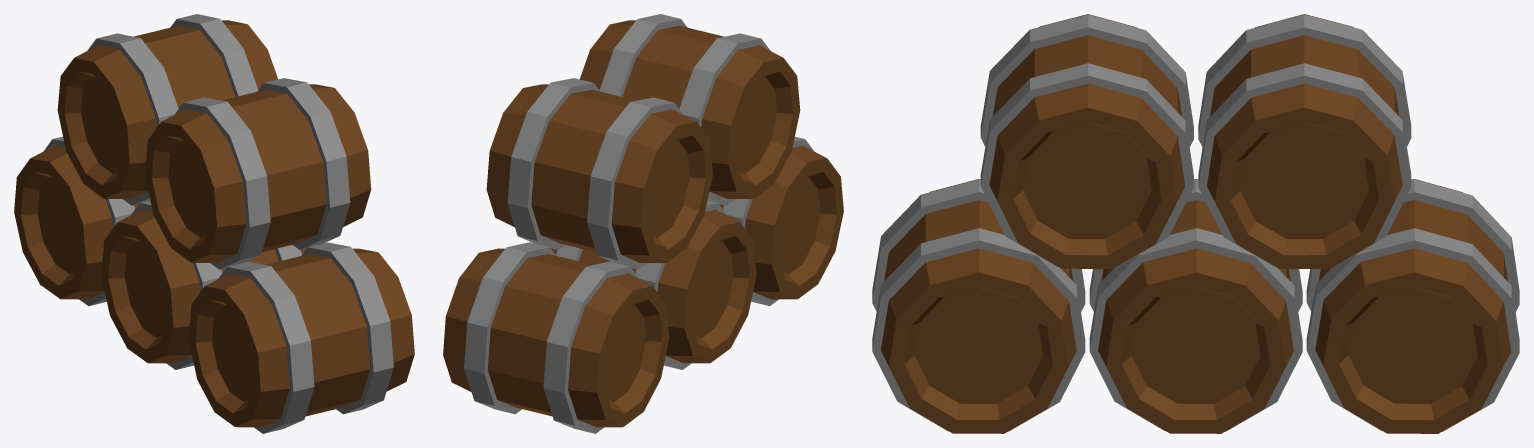
File: FassStapel.fbx
3 renders of one model, left to right at view 1: azimuth 30°, elevation 25°; view 2: azimuth 150°, elevation 25°; view 3: azimuth 270°, elevation 25°, orthographic. The views are drawn at different scales.
Parts seen in each view (by area): view 1: Cylinder.006; view 2: Cylinder.006; view 3: Cylinder.006.
Boxes of the visible parts, box(x1,y1,x2,y2) form: Cylinder.006: box(14, 14, 414, 433); Cylinder.006: box(443, 14, 843, 433); Cylinder.006: box(872, 14, 1519, 433).
Bounding box in the file's own units: 184 × 326 × 536.
